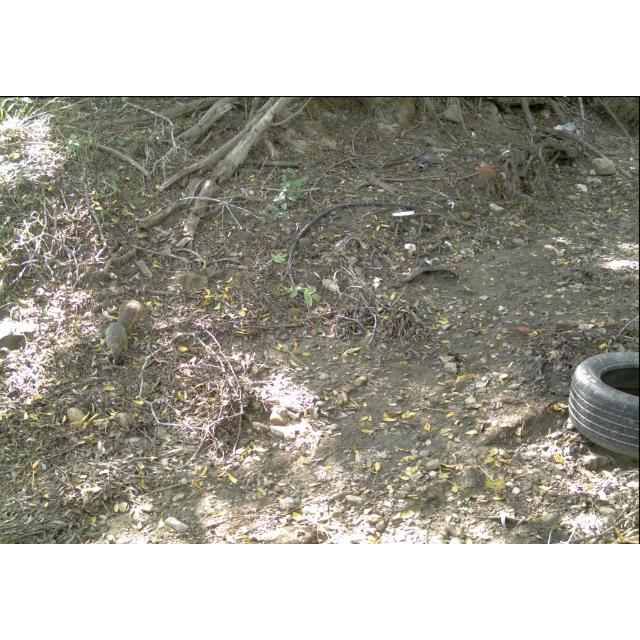animals: (105, 300, 142, 366)
